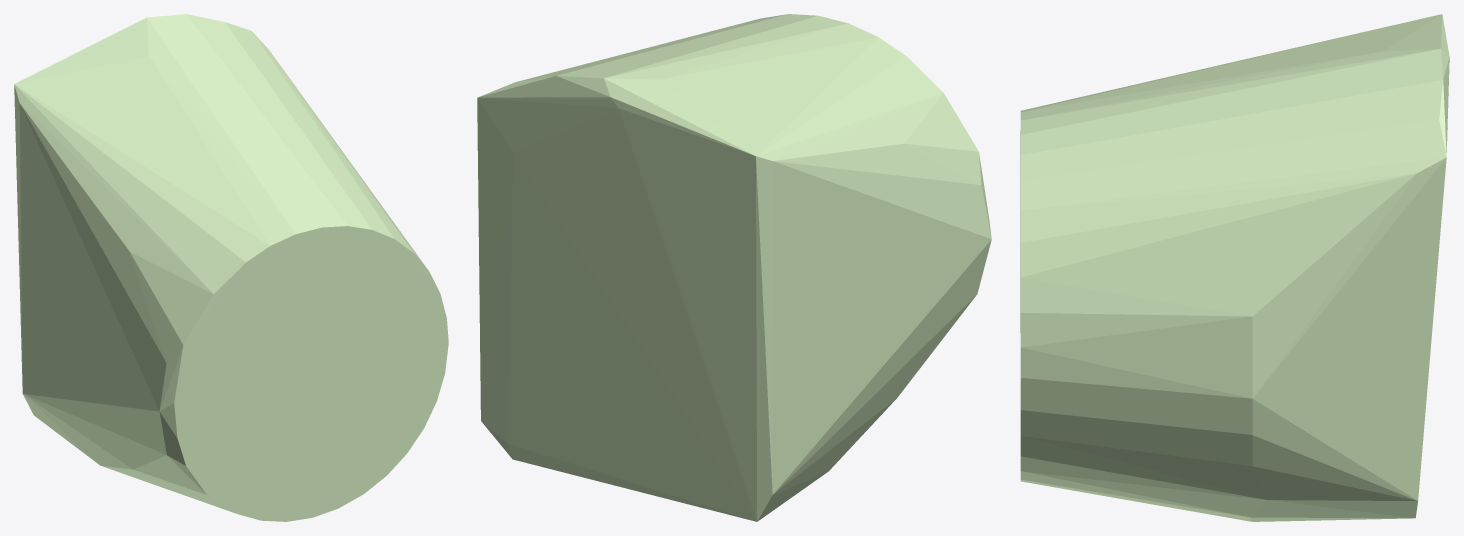
File: kuka_robot_base_coll_1.dae
3 renders of one model, left to right at view 1: azimuth 30°, elevation 25°; view 2: azimuth 150°, elevation 25°; view 3: azimuth 270°, elevation 25°, orthographic. The views are drawn at different scales.
Visible parts, largest first — view 1: Node_0000015C5C916960; view 2: Node_0000015C5C916960; view 3: Node_0000015C5C916960.
Part boxes in pixels (x1,y1,x2,y2): Node_0000015C5C916960: [14, 14, 448, 521]; Node_0000015C5C916960: [477, 14, 991, 521]; Node_0000015C5C916960: [1020, 14, 1449, 521].
Size of the model in its own units: 0.1545 by 0.1857 by 0.1575.
